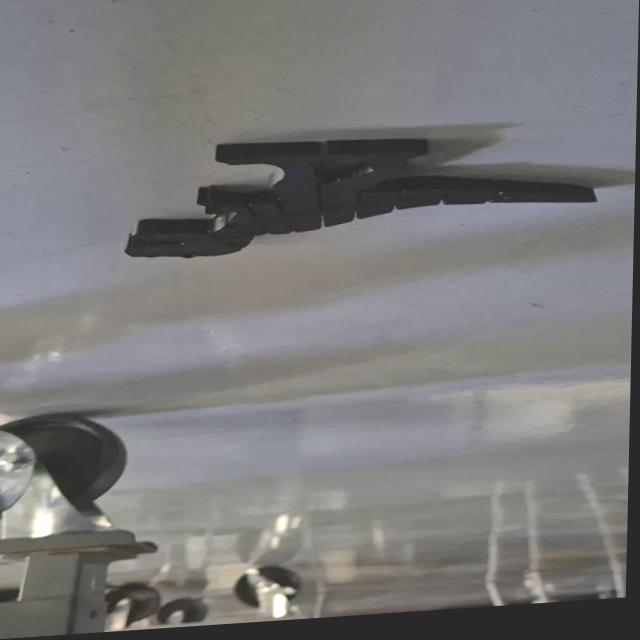dino: (122, 117, 600, 265)
